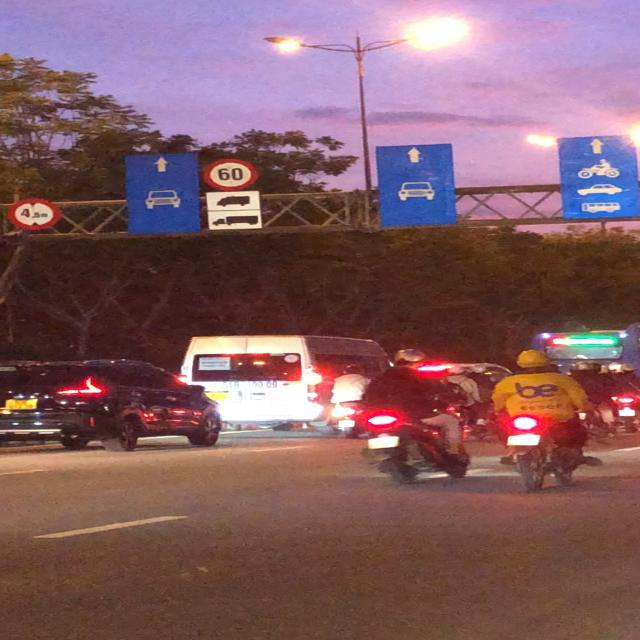Bien bao han che chieu cao: (8, 196, 64, 234)
Bien bao toc do toi da cho phep: (203, 157, 264, 191)
